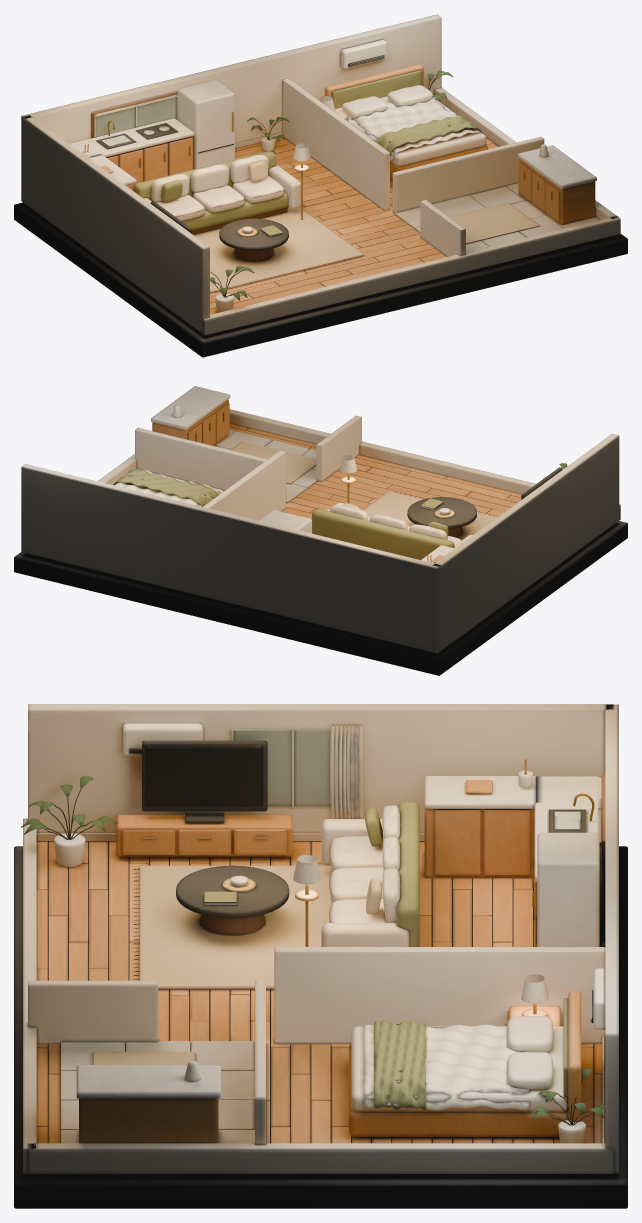
The model's file is community-detail-v6.glb.
The picture shows the model from 3 angles, top to bottom: view 1: azimuth 30°, elevation 25°; view 2: azimuth 150°, elevation 25°; view 3: azimuth 270°, elevation 25°; orthographic projection. The views are drawn at different scales.
Parts seen in each view (by area): view 1: Community fictional apartment; view 2: Community fictional apartment; view 3: Community fictional apartment.
Part boxes in pixels (x1,y1,x2,y2): Community fictional apartment: (14, 14, 627, 357); Community fictional apartment: (14, 386, 627, 675); Community fictional apartment: (14, 704, 627, 1208).
Size of the model in its own units: 8.6 by 2.03 by 6.6.
1 material, 1 textured.
